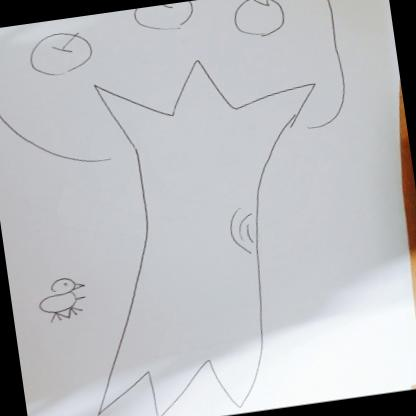apple: (18, 23, 98, 82), (129, 0, 201, 36), (228, 0, 290, 41)
bird: (28, 268, 92, 326)
branch_sharp: (86, 43, 322, 149)
crown_mushroom: (0, 0, 353, 179)
root_only: (79, 328, 282, 416)
trunk_straight: (113, 163, 284, 294)
